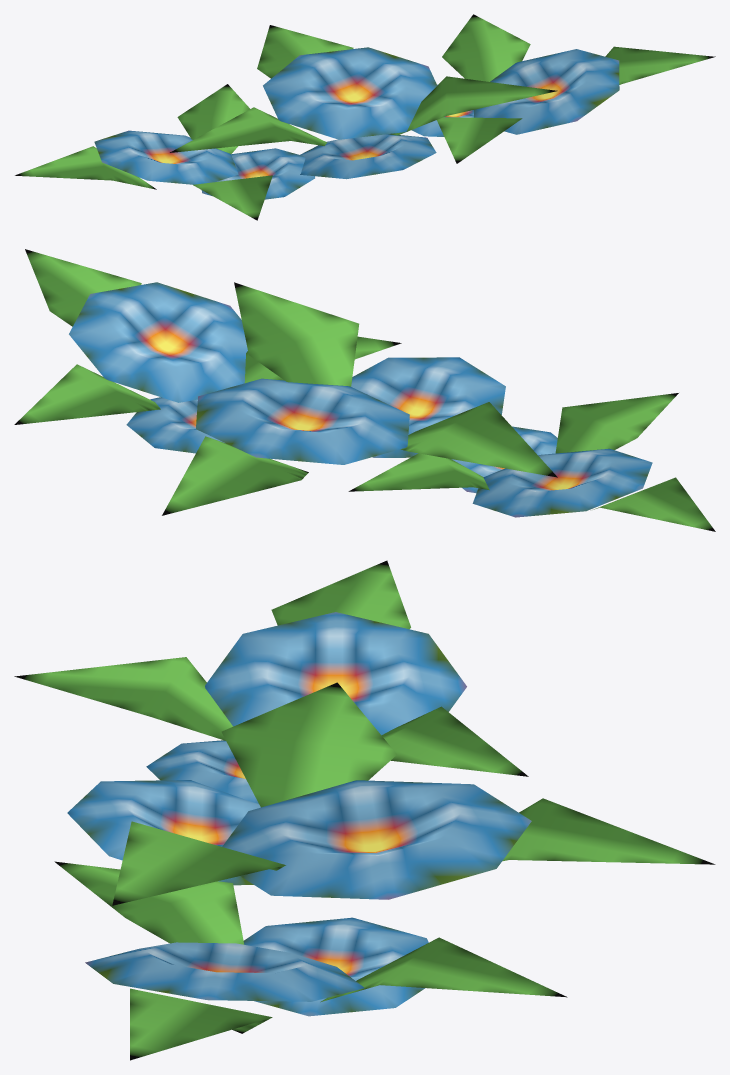
The model's file is deco_flowerGroup_blue.FBX.
3 views of the same model, one above another, from view 1: azimuth 30°, elevation 25°; view 2: azimuth 150°, elevation 25°; view 3: azimuth 270°, elevation 25° (orthographic). The views are drawn at different scales.
Visible parts, largest first — view 1: deco_flowerGroup_blue; view 2: deco_flowerGroup_blue; view 3: deco_flowerGroup_blue.
Part boxes in pixels (<box>): deco_flowerGroup_blue: <box>15,14,715,220</box>; deco_flowerGroup_blue: <box>14,249,715,531</box>; deco_flowerGroup_blue: <box>14,560,715,1060</box>.
Bounding box in the file's own units: 1.85 × 0.1701 × 1.03.
Materials: 1 (1 with a texture image).
